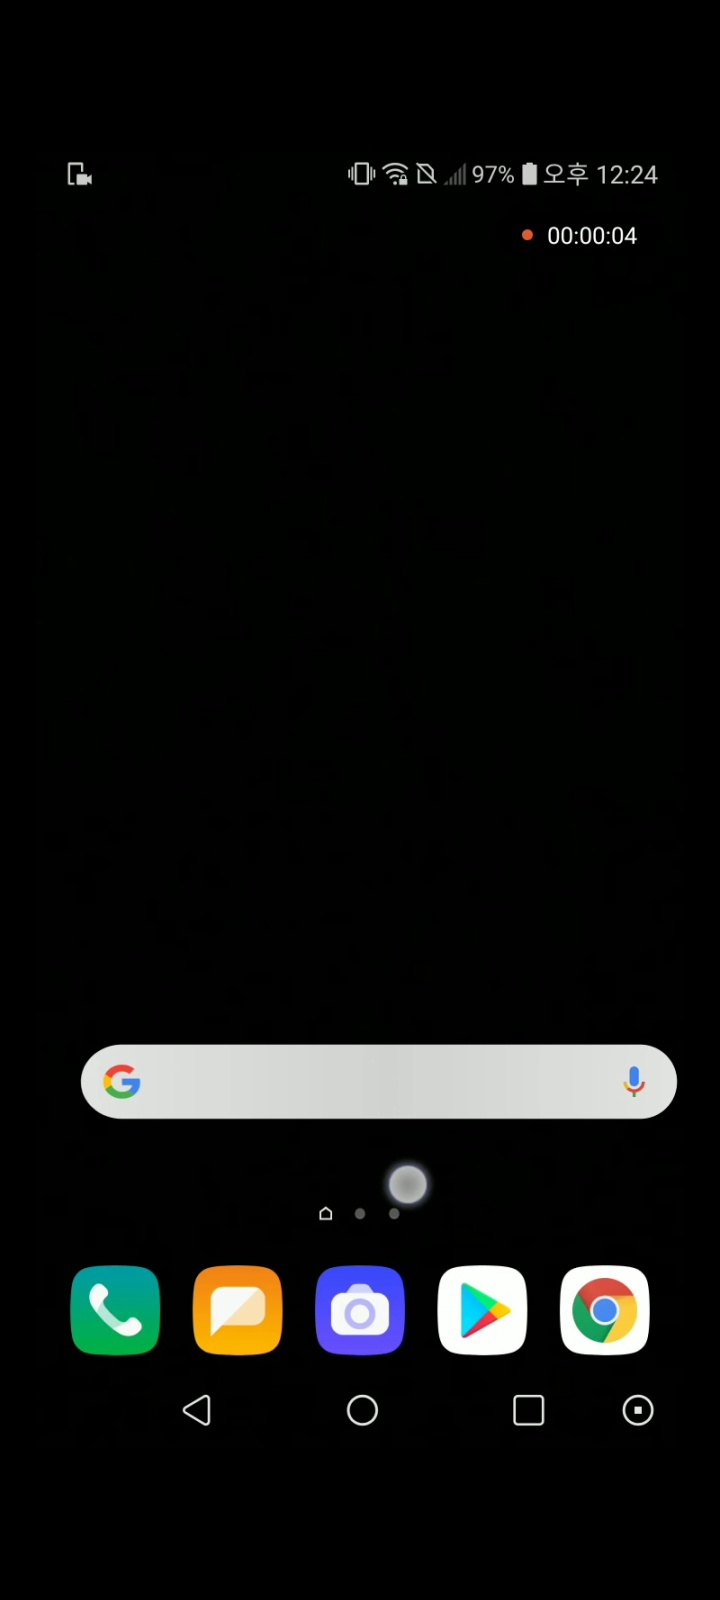Cursor: (388, 1162, 433, 1207)
